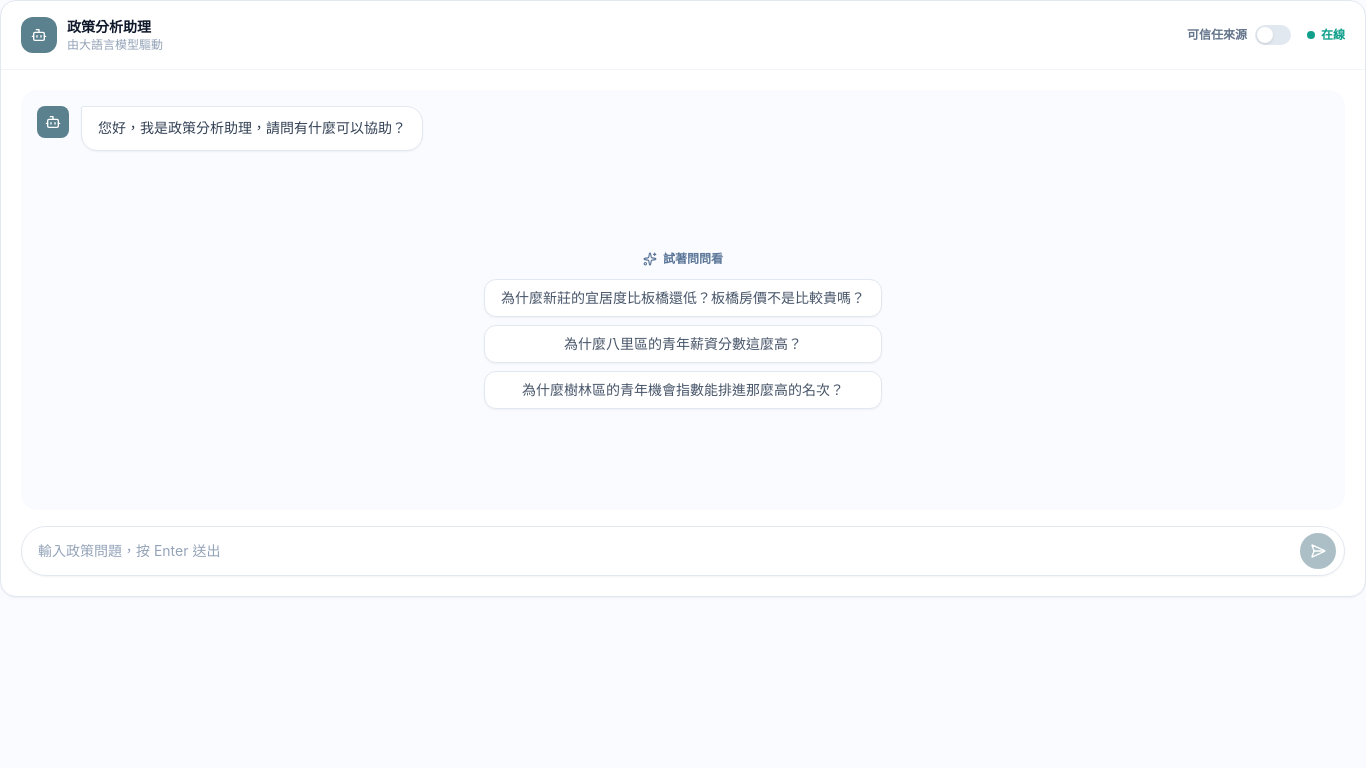
PolicyDecisionAssistant › uses the trusted search scope when the source toggle is enabled
Step 1. Click the switch named "僅引用可信任來源" → (1273, 35), box [1255,25,1291,45]
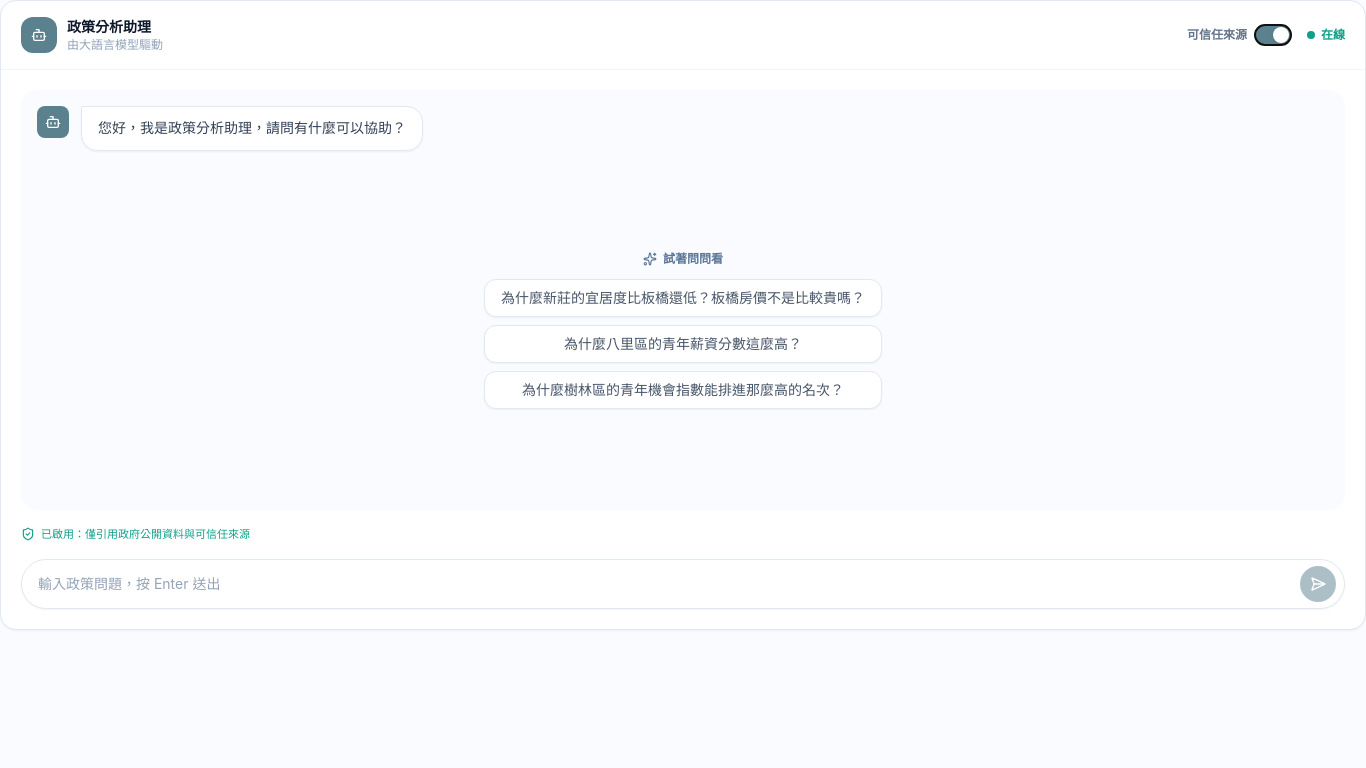
Step 2. Type "八里區的青年薪資如何？" into the field with placeholder "輸入政策問題，按 Enter 送出" → (661, 584), box [30,574,1292,594]
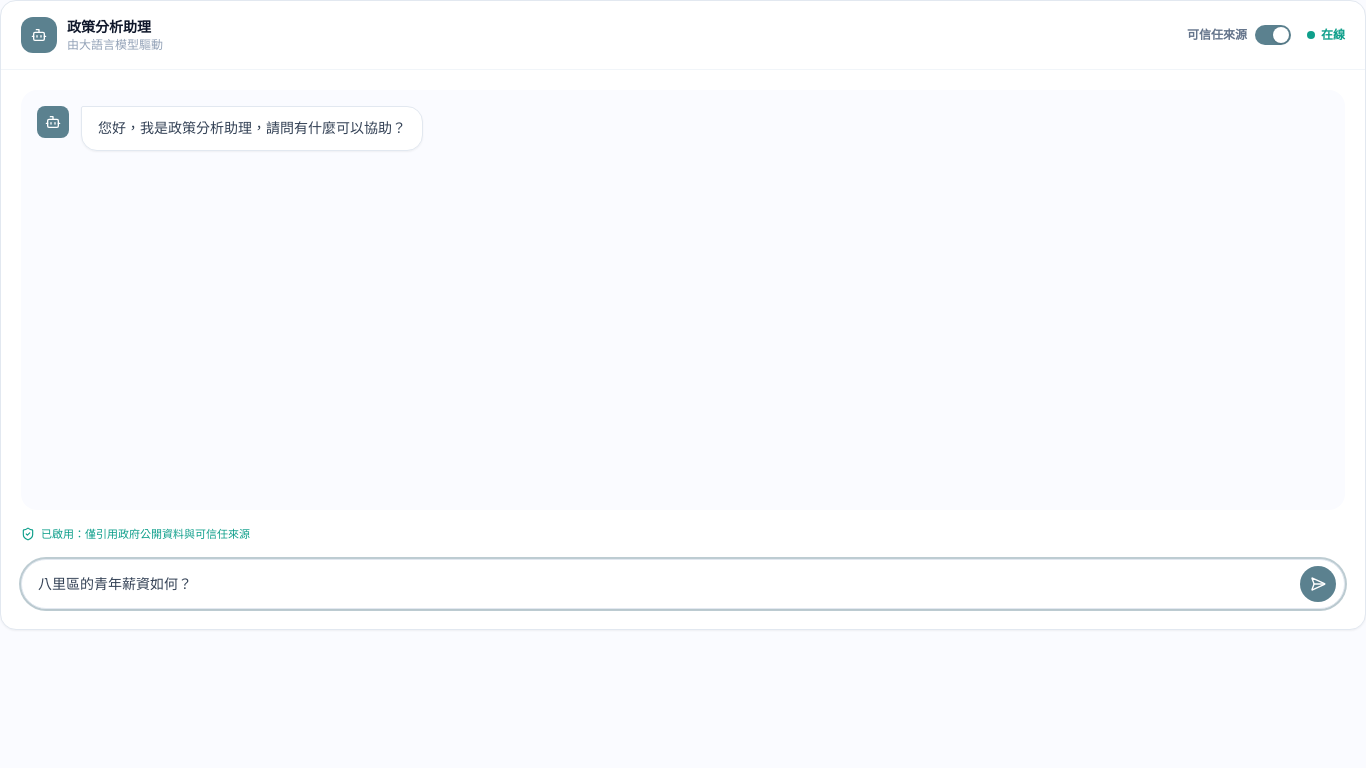
Step 3. Press Enter
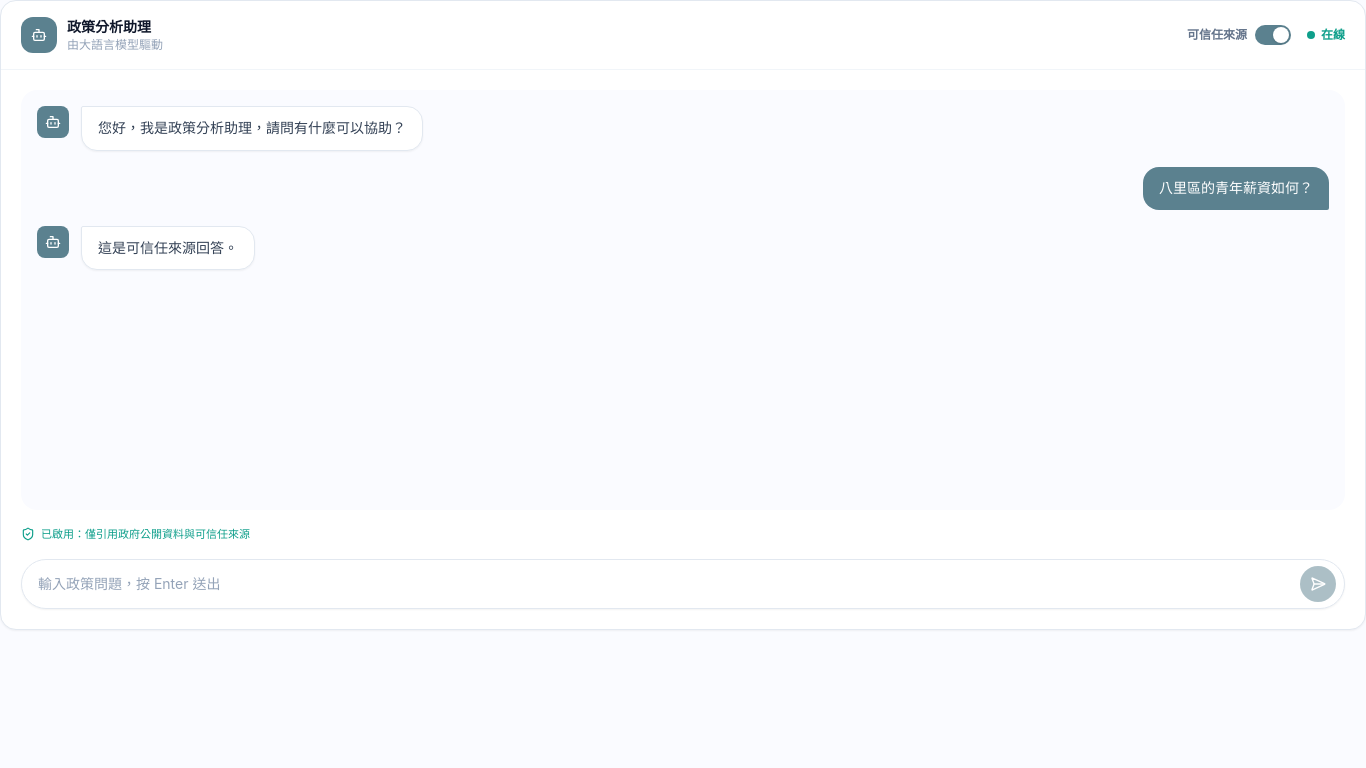
Now the text "這是可信任來源回答。" is shown, box [81,226,255,270]
